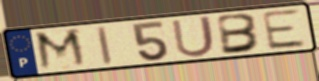5: (129, 19, 171, 63)
B: (216, 12, 263, 56)
E: (259, 8, 309, 52)
I: (95, 24, 115, 66)
M: (33, 27, 91, 73)
U: (169, 14, 217, 59)
